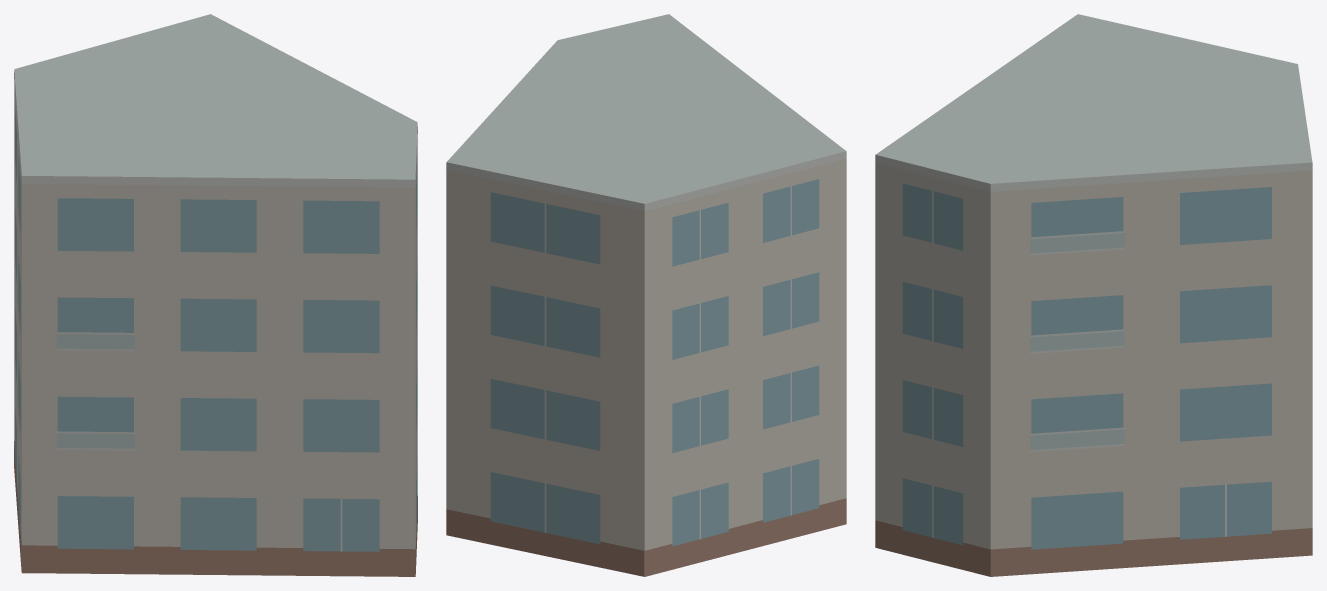
The model's file is survey-upis-33007694.glb.
3 renders of one model, left to right at view 1: azimuth 30°, elevation 25°; view 2: azimuth 150°, elevation 25°; view 3: azimuth 270°, elevation 25°, orthographic. The views are drawn at different scales.
Parts seen in each view (by area): view 1: survey-upis-33007694.tmp; view 2: survey-upis-33007694.tmp; view 3: survey-upis-33007694.tmp.
Part boxes in pixels (<box>): survey-upis-33007694.tmp: <box>14,14,417,576</box>; survey-upis-33007694.tmp: <box>446,14,846,576</box>; survey-upis-33007694.tmp: <box>875,14,1312,576</box>.
Bounding box in the file's own units: 11.32 × 12.2 × 12.31.
